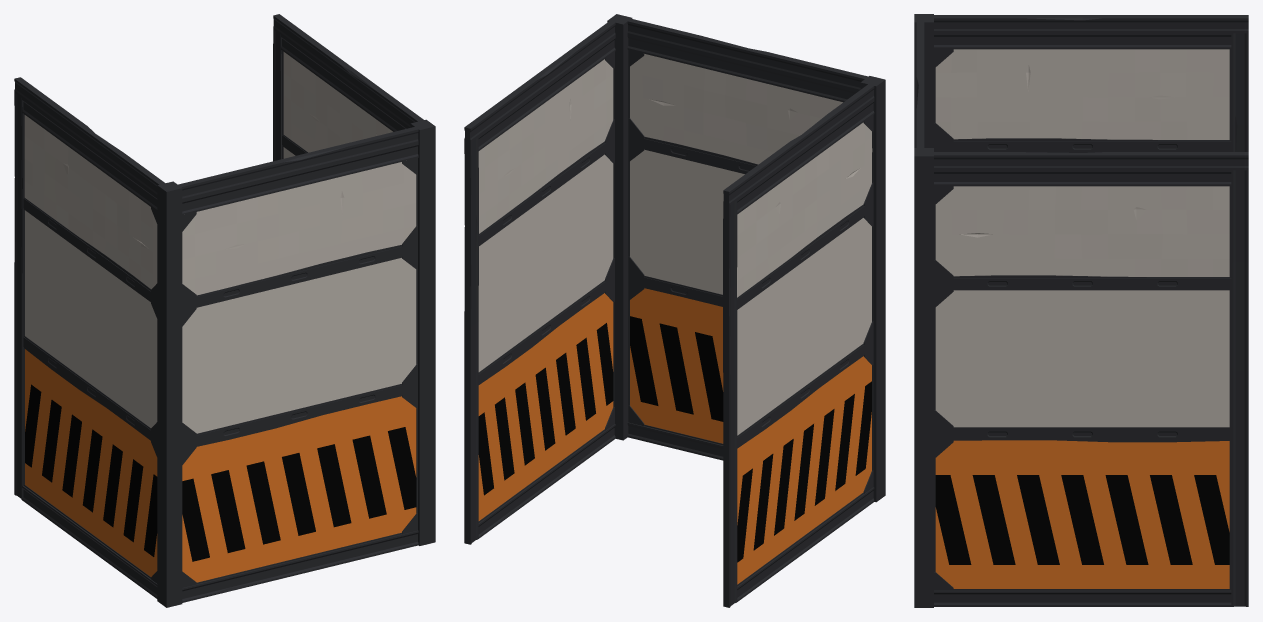
The model's file is SM_Wall_Angle_04.gltf.
3 renders of one model, left to right at view 1: azimuth 30°, elevation 25°; view 2: azimuth 150°, elevation 25°; view 3: azimuth 270°, elevation 25°, orthographic. The views are drawn at different scales.
Parts seen in each view (by area): view 1: SM_Wall_Angle_04; view 2: SM_Wall_Angle_04; view 3: SM_Wall_Angle_04.
Boxes of the visible parts, x1=… form: SM_Wall_Angle_04: x1=14, y1=14, x2=435, y2=607; SM_Wall_Angle_04: x1=464, y1=14, x2=885, y2=607; SM_Wall_Angle_04: x1=914, y1=14, x2=1248, y2=607.
Bounding box in the file's own units: 2.03 × 3 × 2.01.
